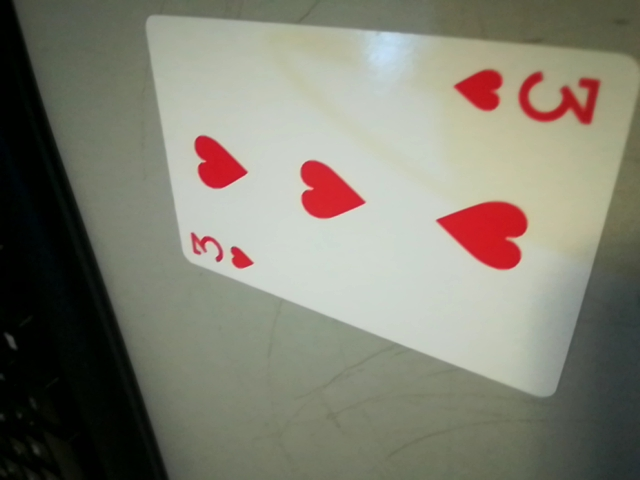hx 3: (458, 59, 619, 131)
